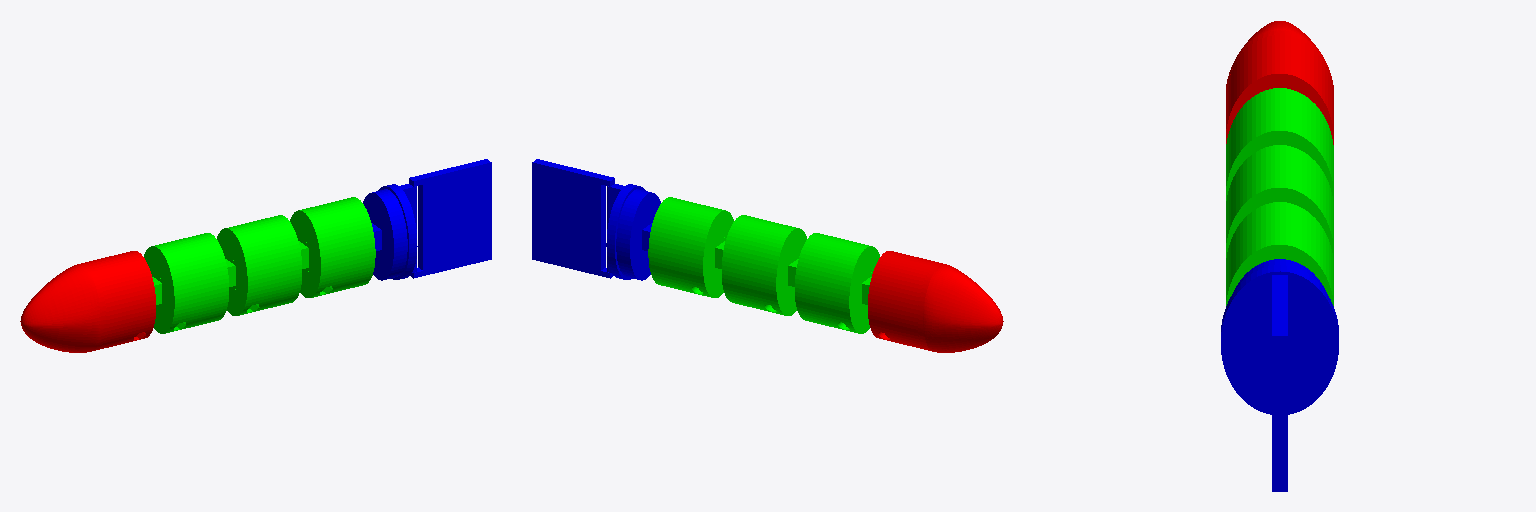
URDF robot description (mubot):
<?xml version="1.0" encoding="utf-8"?>
<robot
  name="mubot">


<!--Defination of links: head, body, peduncle and tail -->


<link
  name="dummy_link">
  <inertial>
    <origin
      xyz="0.02857 0.0 0.0"
      rpy="0 0 0" />
    <mass
      value="1.967E-02" />
    <inertia
      ixx="5.351E-07"
      ixy="0.0"
      ixz="0.0"
      iyy="7.136E-07"
      iyz="0.0"
      izz="6.043E-06" />
  </inertial>
  <visual>
    <origin
      xyz="0 0 0"
      rpy="0 0 0" />
    <geometry>
      <mesh
        filename="package://des_mubot/meshes/segment_head.STL" scale="1 1 1"/>
    </geometry>
    <material
      name="">
      <color
        rgba="1 0 0 1" />
    </material>
  </visual>
  <collision>
    <origin
      xyz="0 0 0"
      rpy="0 0 0" />
    <geometry>
      <mesh
        filename="package://des_mubot/meshes/segment_head.STL" scale="1 1 1"/>
    </geometry>
  </collision>
</link>

<link
  name="segment_body_1">
  <inertial>
    <origin
      xyz="0.01170 0.0 0.0"
      rpy="0 0 0" />
    <mass
      value="1.975E-02" />
    <inertia
      ixx="6.205E-07"
      ixy="0.0"
      ixz="0.0"
      iyy="8.904E-07"
      iyz="0.0"
      izz="2.018E-06" />
  </inertial>
  <visual>
    <origin
      xyz="0 0 0"
      rpy="0 0 0" />
    <geometry>
      <mesh
        filename="package://des_mubot/meshes/segment_body.STL" scale="1 1 1"/>
    </geometry>
    <material
      name="">
      <color
        rgba="0 1 0 1" />
    </material>
  </visual>
  <collision>
    <origin
      xyz="0 0 0"
      rpy="0 0 0" />
    <geometry>
      <mesh
        filename="package://des_mubot/meshes/segment_body.STL" scale="1 1 1"/>
    </geometry>
  </collision>
</link>


<link name="segment_head">
</link>
<joint
name="dummy joint" type="fixed">
<parent
  link="segment_head" />
<child
  link="dummy_link" />
</joint>


<link
  name="segment_body_2">
  <inertial>
    <origin
      xyz="0.01170 0.0 0.0"
      rpy="0 0 0" />
    <mass
      value="1.975E-02" />
      <inertia
        ixx="6.205E-07"
        ixy="0.0"
        ixz="0.0"
        iyy="8.904E-07"
        iyz="0.0"
        izz="2.018E-06" />
    </inertial>
  <visual>
    <origin
      xyz="0 0 0"
      rpy="0 0 0" />
    <geometry>
      <mesh
        filename="package://des_mubot/meshes/segment_body.STL" scale="1 1 1"/>
    </geometry>
    <material
      name="">
      <color
        rgba="0 1 0 1" />
    </material>
  </visual>
  <collision>
    <origin
      xyz="0 0 0"
      rpy="0 0 0" />
    <geometry>
      <mesh
        filename="package://des_mubot/meshes/segment_body.STL" scale="1 1 1"/>
    </geometry>
  </collision>
</link>

<link
  name="segment_body_3">
  <inertial>
    <origin
      xyz="0.01170 0.0 0.0"
      rpy="0 0 0" />
    <mass
      value="1.975E-02" />
      <inertia
        ixx="6.205E-07"
        ixy="0.0"
        ixz="0.0"
        iyy="8.904E-07"
        iyz="0.0"
        izz="2.018E-06" />
    </inertial>
  <visual>
    <origin
      xyz="0 0 0"
      rpy="0 0 0" />
    <geometry>
      <mesh
        filename="package://des_mubot/meshes/segment_body.STL" scale="1 1 1"/>
    </geometry>
    <material
      name="">
      <color
        rgba="0 1 0 1" />
    </material>
  </visual>
  <collision>
    <origin
      xyz="0 0 0"
      rpy="0 0 0" />
    <geometry>
      <mesh
        filename="package://des_mubot/meshes/segment_body.STL" scale="1 1 1"/>
    </geometry>
  </collision>
</link>

<link
  name="segment_peduncle">
  <inertial>
    <origin
      xyz="0.007515 0.0 0.0"
      rpy="0 0 0" />
    <mass
      value="1.418E-02" />
    <inertia
      ixx="5.040E-07"
      ixy="0.0"
      ixz="0.0"
      iyy="3.564E-07"
      iyz="0.0"
      izz="1.109E-06" />
  </inertial>
  <visual>
    <origin
      xyz="0 0 0"
      rpy="0 0 0" />
    <geometry>
      <mesh
        filename="package://des_mubot/meshes/segment_tail.STL" scale="1 1 1"/>
    </geometry>
    <material
      name="">
      <color
        rgba="0 0 1 1" />
    </material>
  </visual>
  <collision>
    <origin
      xyz="0 0 0"
      rpy="0 0 0" />
    <geometry>
      <mesh
        filename="package://des_mubot/meshes/segment_tail.STL" scale="1 1 1"/>
    </geometry>
  </collision>
</link>

<link
  name="segment_tip">
  <inertial>
    <origin
      xyz="0.01400 0.0 0.0"
      rpy="0 0 0" />
    <mass
      value="1.003E-02" />
    <inertia
      ixx="2.567E-08"
      ixy="0.0"
      ixz="0.0"
      iyy="4.882E-08"
      iyz="0.0"
      izz="1.730E-06" />
  </inertial>
  <visual>
    <origin
      xyz="0 0 0"
      rpy="0 0 0" />
    <geometry>
      <mesh
        filename="package://des_mubot/meshes/segment_tip.STL" scale="1 1 1"/>
    </geometry>
    <material
      name="">
      <color
        rgba="0 0 1 1" />
    </material>
  </visual>
  <collision>
    <origin
      xyz="0 0 0"
      rpy="0 0 0" />
    <geometry>
      <mesh
        filename="package://des_mubot/meshes/segment_tip.STL" scale="1 1 1"/>
    </geometry>
  </collision>
</link>


<!--Defination of joints: joint0-joint5-->
<joint
name="joint_a0"
type="revolute">
<origin
  xyz="0.041 0 0"
  rpy="0 0 0" />
<parent
  link="segment_head" />
<child
  link="segment_body_1" />
<axis
  xyz="0 0 1" />
<limit
  lower="-1.57"
  upper="1.57"
  effort="10"
  velocity="10" />
</joint>

<joint
name="joint_a1"
type="revolute">
<origin
  xyz="0.02675 0 0"
  rpy="0 0 0" />
<parent
  link="segment_body_1" />
<child
  link="segment_body_2" />
<axis
  xyz="0 0 1" />
<limit
  lower="-1.57"
  upper="1.57"
  effort="10"
  velocity="10" />
</joint>

<joint
name="joint_a2"
type="revolute">
<origin
  xyz="0.02675 0 0"
  rpy="0 0 0" />
<parent
  link="segment_body_2" />
<child
  link="segment_body_3" />
<axis
  xyz="0 0 1" />
<limit
  lower="-1.57"
  upper="1.57"
  effort="10"
  velocity="10" />
</joint>

<joint
name="joint_a3"
type="revolute">
<origin
  xyz="0.02675 0 0"
  rpy="0 0 0" />
<parent
  link="segment_body_3" />
<child
  link="segment_peduncle" />
<axis
  xyz="0 0 1" />
<limit
  lower="-1.57"
  upper="1.57"
  effort="10"
  velocity="10" />
</joint>

<joint
name="joint_p0"
type="revolute">
<origin
  xyz="0.02175 0 0"
  rpy="0 0 0" />
<parent
  link="segment_peduncle" />
<child
  link="segment_tip" />
<axis
  xyz="0 0 1" />
<limit
  lower="-1.57"
  upper="1.57"
  effort="10"
  velocity="10" />
</joint>


<gazebo reference="dummy_link">
    <material>Gazebo/Red</material>
</gazebo>

<gazebo reference="segment_body_1">
    <material>Gazebo/Yellow</material>
</gazebo>
<gazebo reference="segment_body_2">
    <material>Gazebo/Yellow</material>
</gazebo>
<gazebo reference="segment_body_3">
    <material>Gazebo/Yellow</material>
</gazebo>

<gazebo reference="segment_peduncle">
    <material>Gazebo/Orange</material>
</gazebo>

<gazebo reference="segment_tip">
    <material>Gazebo/Blue</material>
</gazebo>

<!--Defination of plugins-->
<gazebo>
    <plugin name="gazebo_ros_control" filename="libgazebo_ros_control.so">
        <robotNamespace>/mubot</robotNamespace>
    </plugin>
</gazebo>

<gazebo>
        <plugin name="Actuator_control" filename="libactuator_4.so"/>
        <plugin name="Hydro_Plugin" filename="libHydro_4.so"/>
</gazebo>


</robot>

--- Facts derived from the render (not from the file) ---
The picture shows the robot from 3 angles, left to right: view 1: azimuth 30°, elevation 25°; view 2: azimuth 150°, elevation 25°; view 3: azimuth 270°, elevation 25°; orthographic projection.
Robot: mubot — 7 links, 6 joints (5 revolute, 1 fixed); root link segment_head; default pose: all joints at 0.
Visible links, largest first — view 1: dummy_link, segment_tip, segment_body_3, segment_body_2, segment_body_1, segment_peduncle; view 2: dummy_link, segment_tip, segment_body_3, segment_body_2, segment_body_1, segment_peduncle; view 3: segment_peduncle, dummy_link, segment_body_1, segment_body_2, segment_body_3, segment_tip.
Link boxes in pixels (x1,y1,x2,y2): dummy_link: (20, 251, 155, 352); segment_tip: (409, 159, 491, 278); segment_body_3: (290, 197, 375, 297); segment_body_2: (217, 215, 301, 315); segment_body_1: (144, 233, 228, 333); segment_peduncle: (363, 184, 417, 280); dummy_link: (868, 251, 1003, 352); segment_tip: (532, 159, 614, 278); segment_body_3: (648, 197, 733, 297); segment_body_2: (722, 215, 806, 315); segment_body_1: (795, 233, 879, 333); segment_peduncle: (606, 184, 660, 280); segment_peduncle: (1221, 259, 1338, 414); dummy_link: (1226, 21, 1333, 144); segment_body_1: (1226, 88, 1333, 201); segment_body_2: (1226, 145, 1333, 258); segment_body_3: (1226, 202, 1333, 305); segment_tip: (1272, 275, 1287, 491).
Bounding box of the posed robot: 0.171 × 0.0235 × 0.034 m (x, y, z).
Meshes: 4 distinct files referenced, 6 mesh visuals loaded (4 binary STL).
